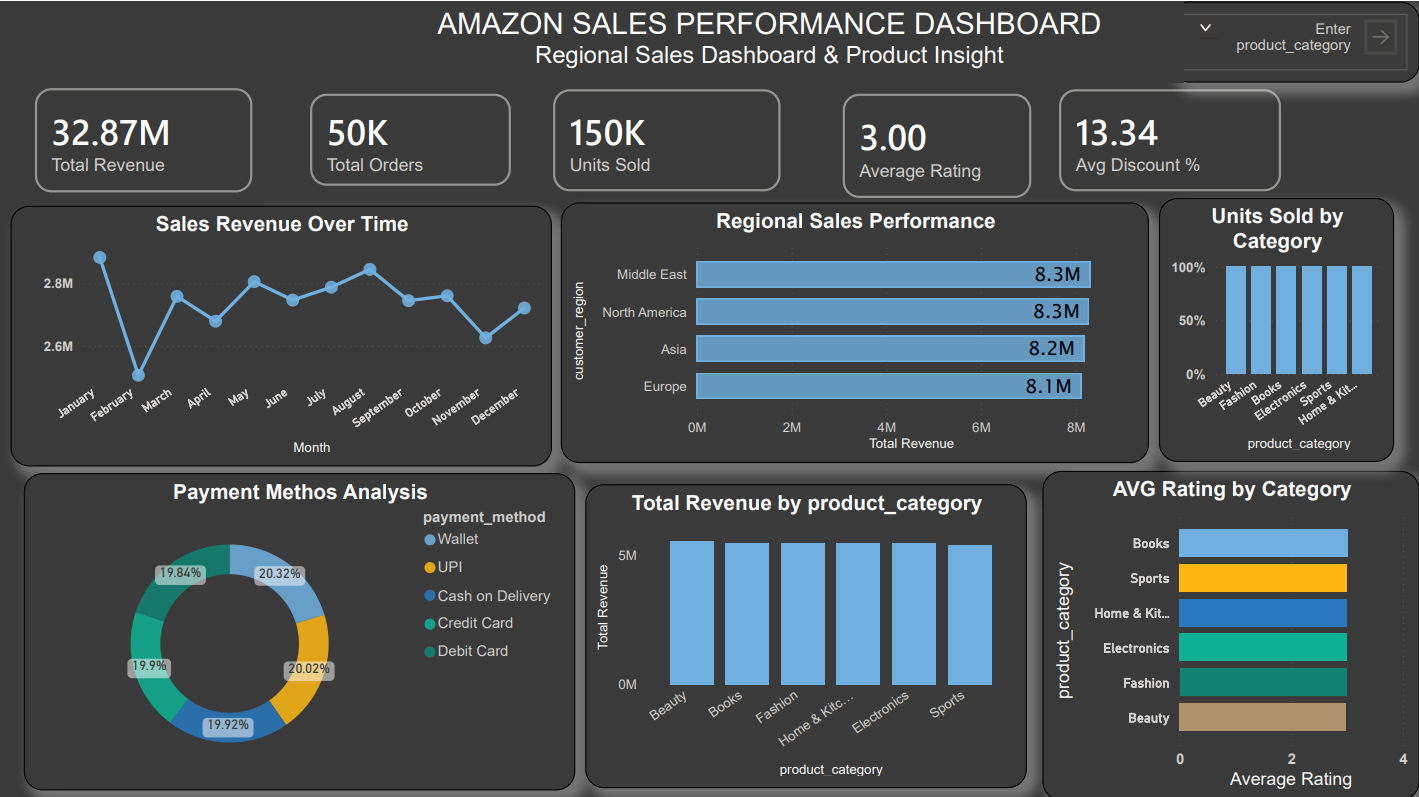

What the dashboard file says about the page in this screenshot:
{"tool":"powerbi","page":{"name":"Page 2","canvas":[1280,720],"ordinal":1},"visuals":[{"type":"lineChart","title":"Sales Revenue Over Time","fields":{"Category":["amazon_sales_dataset.order_date.Variation.Date Hierarchy.Month"],"Y":["amazon_sales_dataset.Total Revenue"]},"box":[9.6,183.9,488.5,234.6],"z":0},{"type":"cardVisual","fields":{"Data":["amazon_sales_dataset.Total Revenue"]},"box":[9.6,67.2,216.8,112.5],"z":1000},{"type":"cardVisual","fields":{"Data":["amazon_sales_dataset.Total Orders"]},"box":[253.9,71.4,200.3,102.9],"z":2000},{"type":"cardVisual","fields":{"Data":["Sum(amazon_sales_dataset.quantity_sold)"]},"box":[484.4,46.7,225,112.5],"z":3000},{"type":"cardVisual","fields":{"Data":["amazon_sales_dataset.Average Rating"]},"box":[735.5,46.7,190.7,112.5],"z":4000},{"type":"cardVisual","fields":{"Data":["amazon_sales_dataset.Average Discount"]},"box":[999,49.4,220.9,112.5],"z":5000},{"type":"donutChart","title":"Payment Methos Analysis","fields":{"Category":["amazon_sales_dataset.payment_method"],"Y":["amazon_sales_dataset.Total Revenue"]},"box":[22,425.4,496.7,285.4],"z":6000},{"type":"clusteredBarChart","title":"Regional Sales Performance","fields":{"Category":["amazon_sales_dataset.customer_region"],"Y":["amazon_sales_dataset.Total Revenue"]},"box":[506.3,174.3,529.7,234.6],"z":7000},{"type":"scatterChart","fields":{"X":["amazon_sales_dataset.product_category"],"Y":["amazon_sales_dataset.Total Revenue"]},"box":[528.3,435,397.9,274.4],"z":8000},{"type":"barChart","fields":{"Category":["amazon_sales_dataset.product_category"],"Y":["amazon_sales_dataset.Average Rating"],"Series":["amazon_sales_dataset.product_category"]},"box":[940,422.6,340.3,297.8],"z":9000},{"type":"columnChart","fields":{"Category":["amazon_sales_dataset.product_category"],"Y":["Sum(amazon_sales_dataset.quantity_sold)"]},"box":[1045.6,161.9,211.3,252.5],"z":10000},{"type":"textSlicer","fields":{"Values":["amazon_sales_dataset.product_category"]},"box":[61.7,0,326.6,74.1],"z":11000}]}

Visuals, with their boxes in screenshot pixels (x1, y1, x2, y2), scaled from the page's 1280x720 canvas onto the 1419x797 screenshot:
"Sales Revenue Over Time" lineChart: box=[11, 204, 552, 463]
cardVisual - amazon_sales_dataset.Total Revenue: box=[11, 74, 251, 199]
cardVisual - amazon_sales_dataset.Total Orders: box=[281, 79, 504, 193]
cardVisual - Sum(amazon_sales_dataset.quantity_sold): box=[537, 52, 786, 176]
cardVisual - amazon_sales_dataset.Average Rating: box=[815, 52, 1027, 176]
cardVisual - amazon_sales_dataset.Average Discount: box=[1107, 55, 1352, 179]
"Payment Methos Analysis" donutChart: box=[24, 471, 575, 787]
"Regional Sales Performance" clusteredBarChart: box=[561, 193, 1149, 453]
scatterChart - amazon_sales_dataset.product_category x amazon_sales_dataset.Total Revenue: box=[586, 482, 1027, 785]
barChart - amazon_sales_dataset.product_category x amazon_sales_dataset.Average Rating: box=[1042, 468, 1418, 796]
columnChart - amazon_sales_dataset.product_category x Sum(amazon_sales_dataset.quantity_sold): box=[1159, 179, 1393, 459]
textSlicer - amazon_sales_dataset.product_category: box=[68, 0, 430, 82]
